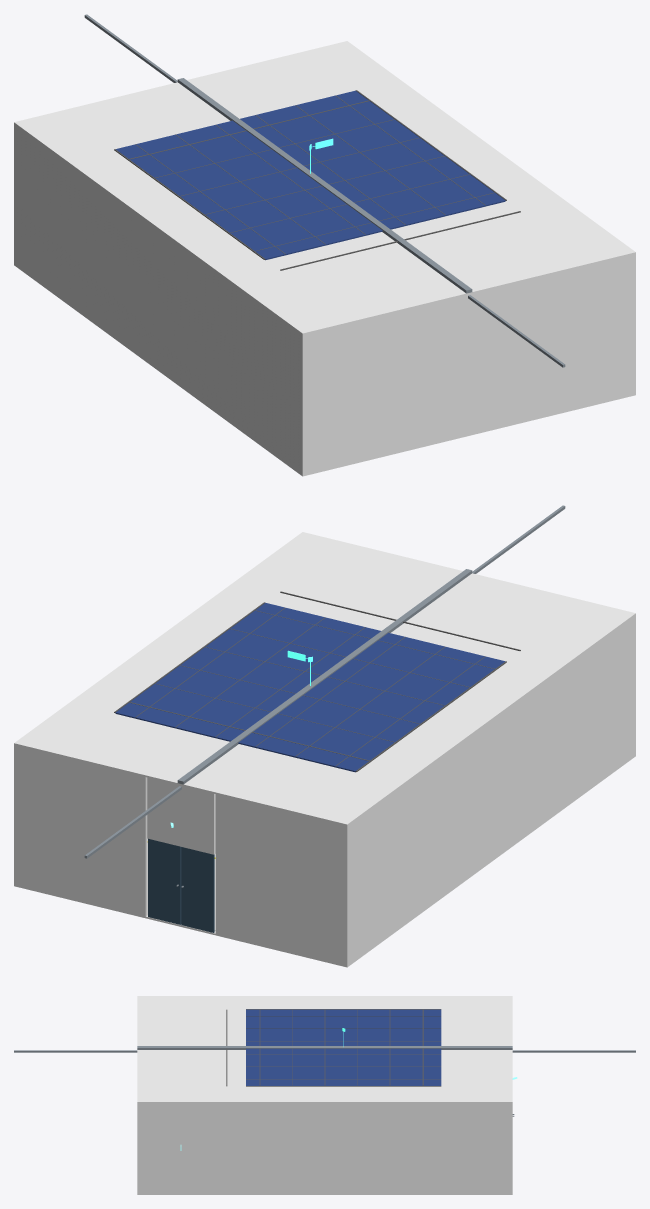
Rendered from Final1glb.glb.
3 views of the same model, one above another, from view 1: azimuth 30°, elevation 25°; view 2: azimuth 150°, elevation 25°; view 3: azimuth 270°, elevation 25° (orthographic). The views are drawn at different scales.
Parts seen in each view (by area): view 1: STR_Roof, Wall_Back, Roof_Solar_Array, Wall_Left_High, Wall_Left_Low, Roof_Ridge, STR_Floor; view 2: STR_Roof, Roof_Solar_Array, Wall_Left_High, Wall_Left_Low, Wall_Front_Left, Wall_Front_Right, Wall_Front_Top, Door_Right, Door_Left, Roof_Ridge, STR_Floor; view 3: STR_Roof, Wall_Right_High, Wall_Right_Low, Roof_Solar_Array, Roof_Ridge, STR_Floor, Purlin_00, Purlin_02.
Boxes of the visible parts, left/top/right/bottom form: STR_Roof: left=14, top=41, right=635, bottom=335; Wall_Back: left=300, top=254, right=635, bottom=474; Roof_Solar_Array: left=116, top=90, right=505, bottom=260; Wall_Left_High: left=14, top=124, right=305, bottom=410; Wall_Left_Low: left=14, top=201, right=305, bottom=474; Roof_Ridge: left=177, top=78, right=472, bottom=293; STR_Floor: left=14, top=264, right=635, bottom=476; STR_Roof: left=14, top=532, right=635, bottom=826; Roof_Solar_Array: left=115, top=603, right=504, bottom=772; Wall_Left_High: left=344, top=616, right=635, bottom=902; Wall_Left_Low: left=344, top=692, right=635, bottom=965; Wall_Front_Left: left=215, top=794, right=345, bottom=964; Wall_Front_Right: left=16, top=746, right=147, bottom=916; Wall_Front_Top: left=147, top=777, right=215, bottom=854; Door_Right: left=148, top=838, right=181, bottom=924; Door_Left: left=181, top=847, right=214, bottom=932; Roof_Ridge: left=177, top=569, right=472, bottom=784; STR_Floor: left=14, top=755, right=635, bottom=967; STR_Roof: left=137, top=996, right=512, bottom=1102; Wall_Right_High: left=137, top=1103, right=512, bottom=1152; Wall_Right_Low: left=139, top=1153, right=512, bottom=1193; Roof_Solar_Array: left=246, top=1009, right=441, bottom=1085; Roof_Ridge: left=137, top=1046, right=512, bottom=1049; STR_Floor: left=137, top=1193, right=512, bottom=1194; Purlin_00: left=14, top=1050, right=137, bottom=1052; Purlin_02: left=512, top=1050, right=635, bottom=1052.
Bounding box in the file's own units: 20.46 × 10.06 × 49.7.
